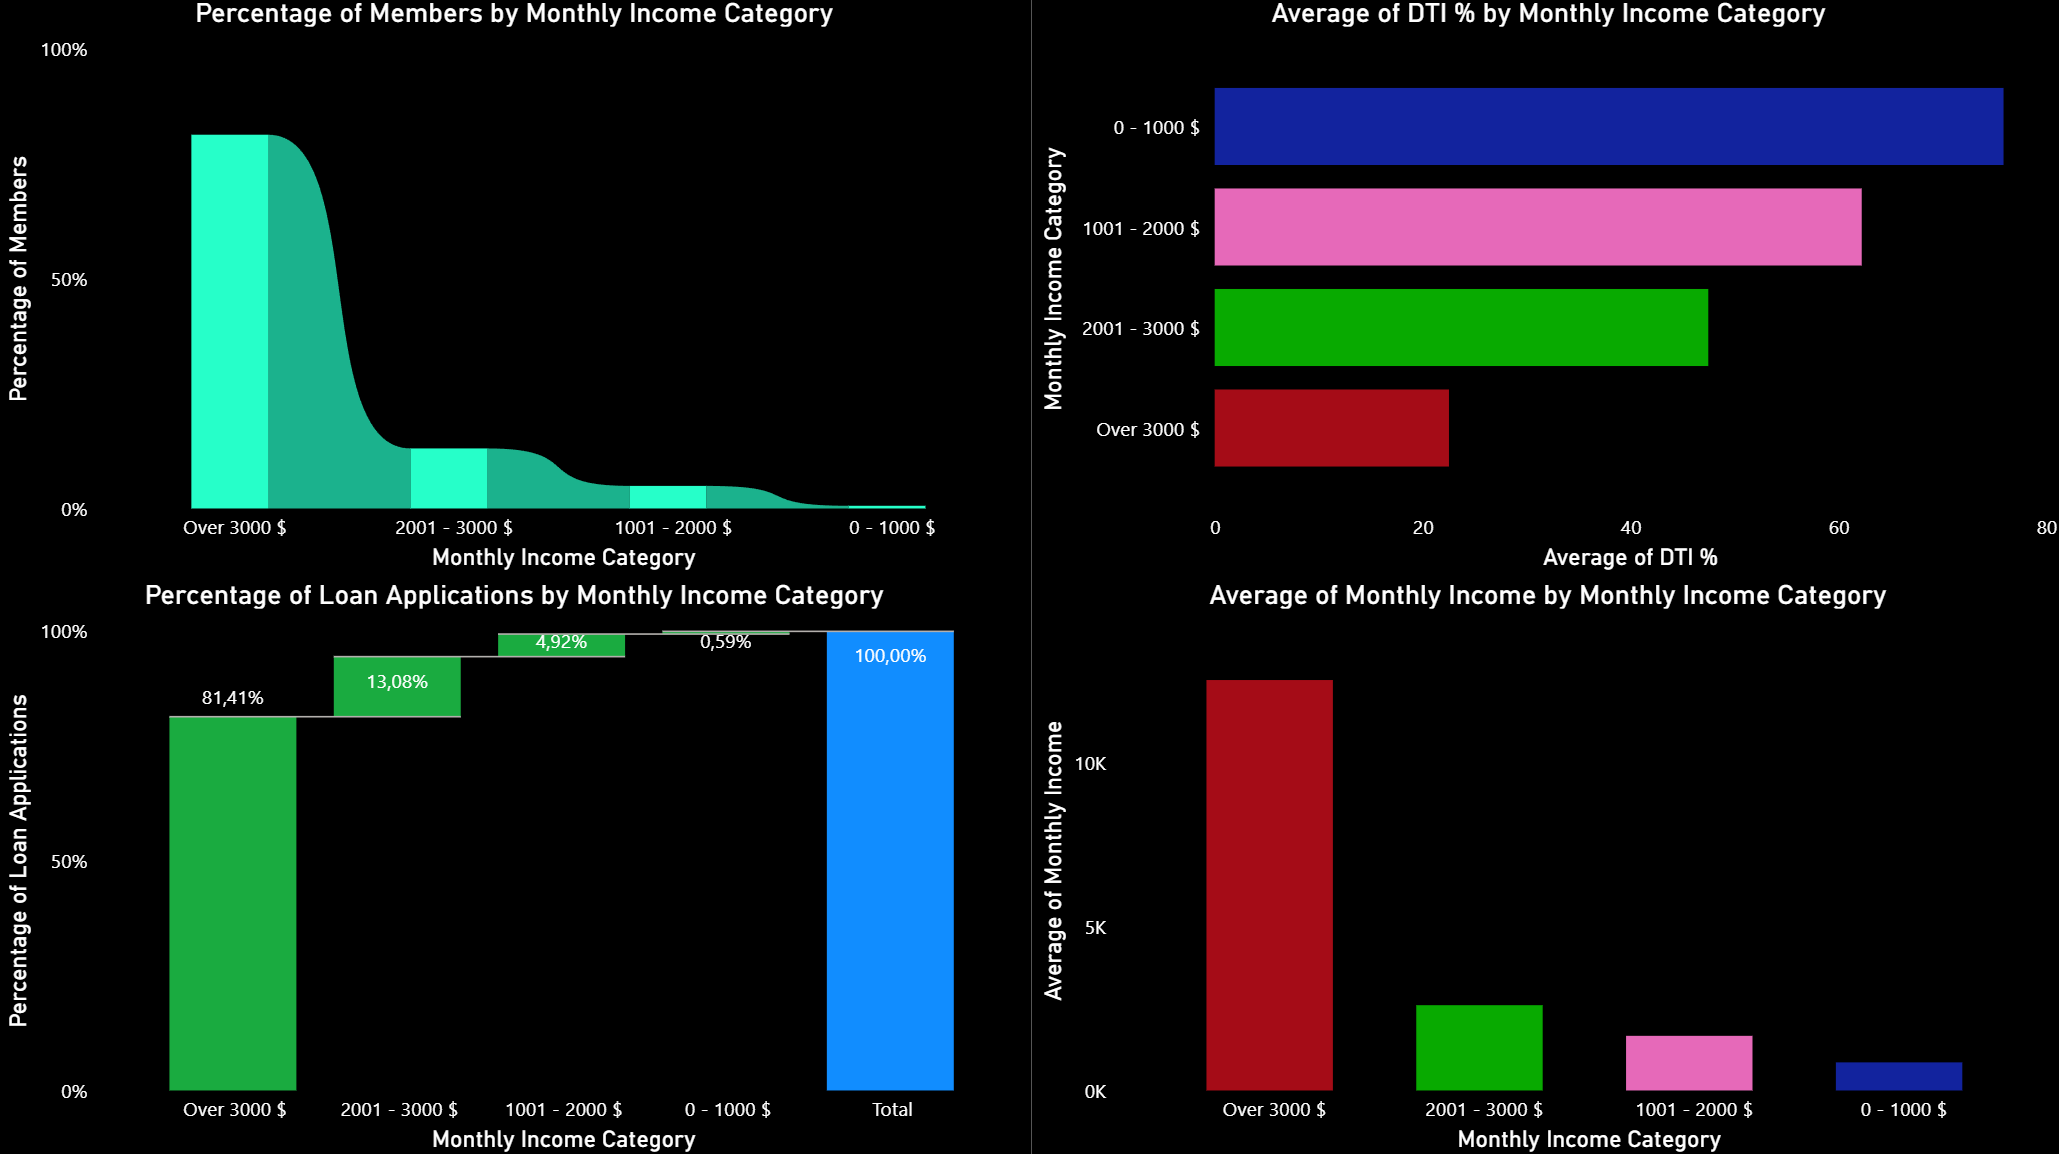

Layout of this report page (visuals, bound fields, positions):
{"tool":"powerbi","page":{"name":"Monthly Income Category","canvas":[1280,720],"ordinal":1},"visuals":[{"type":"ribbonChart","title":"Percentage of Members by Monthly Income Category","fields":{"Category":["loan.Monthly Income Category"],"Y":["CountNonNull(loan.Monthly Income Category)"]},"box":[0,0,640.3,360],"z":0},{"type":"barChart","fields":{"Category":["loan.Monthly Income Category"],"Y":["Avg(loan.DTI %)"]},"box":[640.3,0,639.4,360],"z":1000},{"type":"waterfallChart","title":"Percentage of Loan Applications by Monthly Income Category","fields":{"Category":["loan.Monthly Income Category"],"Y":["CountNonNull(loan.Loan ID)"]},"box":[0,360,640.3,360],"z":2000},{"type":"columnChart","fields":{"Category":["loan.Monthly Income Category"],"Y":["Avg(loan.Monthly Income)"]},"box":[640.3,360,638.5,360],"z":3000}]}

Visuals, with their boxes in screenshot pixels (x1, y1, x2, y2), scaled from the page's 1280x720 canvas onto the 2059x1154 screenshot:
"Percentage of Members by Monthly Income Category" ribbonChart: pyautogui.locateOnScreen(0, 0, 1030, 577)
barChart - loan.Monthly Income Category x Avg(loan.DTI %): pyautogui.locateOnScreen(1030, 0, 2058, 577)
"Percentage of Loan Applications by Monthly Income Category" waterfallChart: pyautogui.locateOnScreen(0, 577, 1030, 1153)
columnChart - loan.Monthly Income Category x Avg(loan.Monthly Income): pyautogui.locateOnScreen(1030, 577, 2057, 1153)
